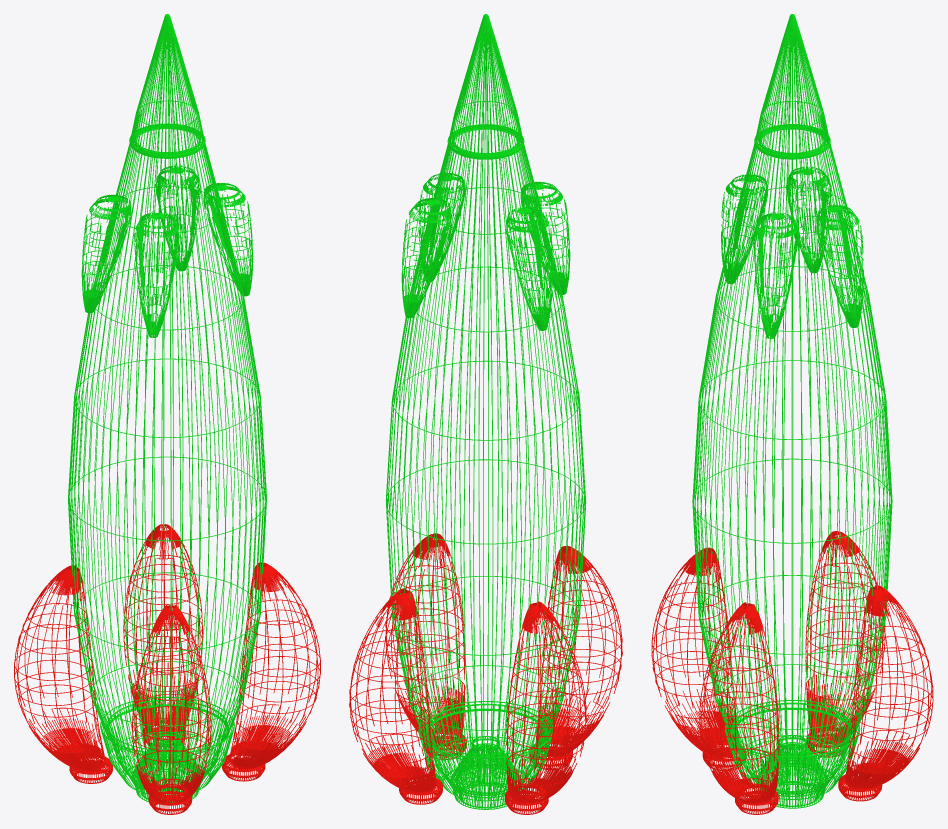
File: nuclear-missile-highlight-four-delivery-thrusters.glb
The picture shows the model from 3 angles, left to right: view 1: azimuth 30°, elevation 25°; view 2: azimuth 150°, elevation 25°; view 3: azimuth 270°, elevation 25°; orthographic projection.
Visible parts, largest first — view 1: chassis technical wire, four-delivery-thrusters technical wire, air-brake-manoeuvring-system technical wire, atomic-warhead-nose technical wire; view 2: chassis technical wire, four-delivery-thrusters technical wire, atomic-warhead-nose technical wire, air-brake-manoeuvring-system technical wire; view 3: chassis technical wire, four-delivery-thrusters technical wire, air-brake-manoeuvring-system technical wire, atomic-warhead-nose technical wire.
Part boxes in pixels (x1,y1,x2,y2): chassis technical wire: (68, 186, 266, 804); four-delivery-thrusters technical wire: (14, 524, 320, 814); air-brake-manoeuvring-system technical wire: (81, 165, 253, 337); atomic-warhead-nose technical wire: (112, 14, 222, 232); chassis technical wire: (385, 187, 586, 809); four-delivery-thrusters technical wire: (349, 533, 622, 814); atomic-warhead-nose technical wire: (430, 14, 541, 233); air-brake-manoeuvring-system technical wire: (401, 173, 570, 330); chassis technical wire: (692, 187, 892, 808); four-delivery-thrusters technical wire: (651, 531, 933, 814); air-brake-manoeuvring-system technical wire: (721, 166, 863, 338); atomic-warhead-nose technical wire: (737, 14, 847, 233).
Size of the model in its own units: 2.02 by 6.19 by 2.02.
